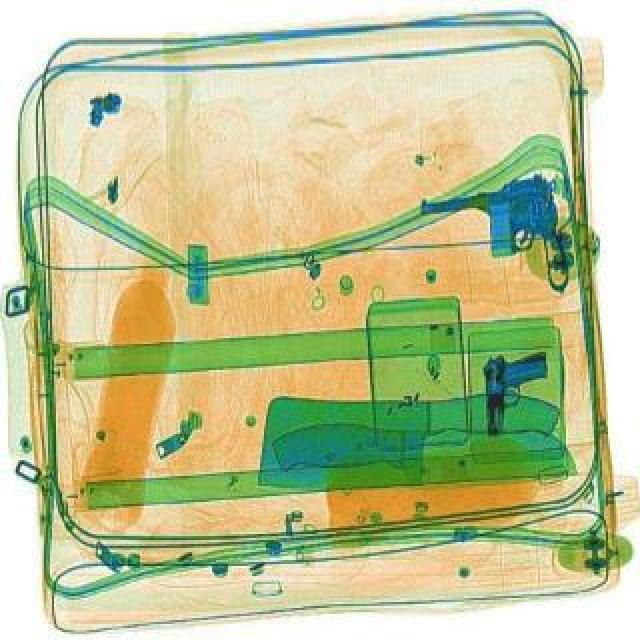gun: (416, 172, 572, 308), (478, 348, 552, 436)
knife: (258, 394, 558, 490), (270, 424, 578, 480)
